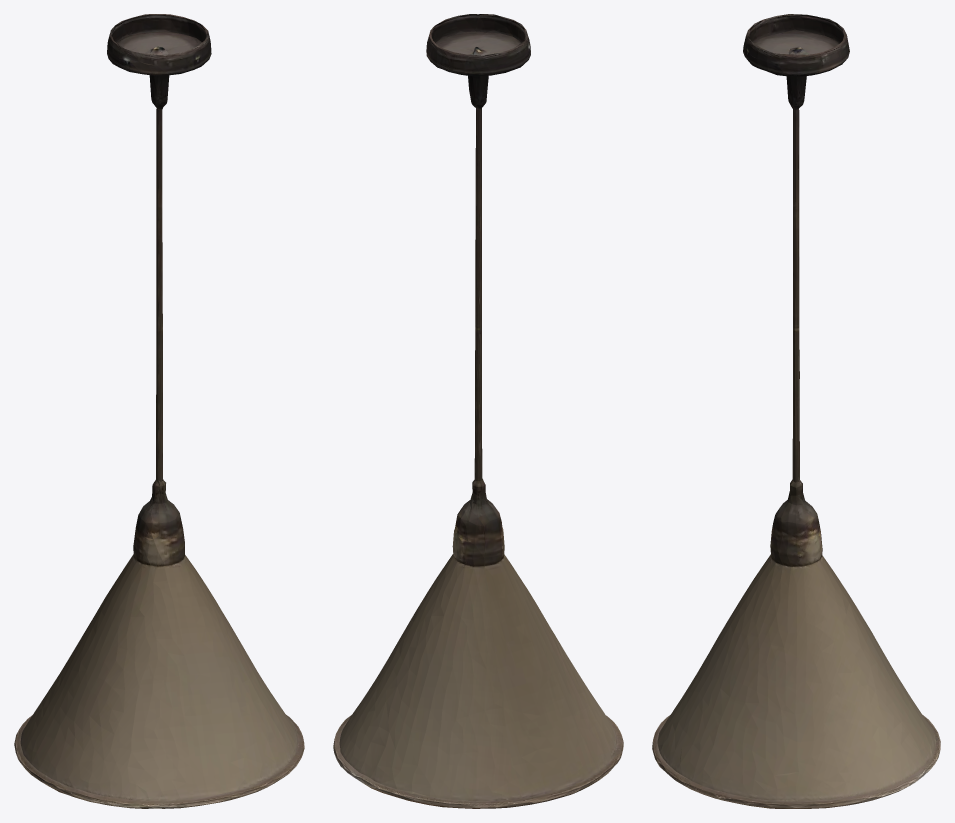
Rendered from ast_c5ab118e8f8d.glb.
The picture shows the model from 3 angles, left to right: view 1: azimuth 30°, elevation 25°; view 2: azimuth 150°, elevation 25°; view 3: azimuth 270°, elevation 25°; orthographic projection.
Visible parts, largest first — view 1: geometry_0; view 2: geometry_0; view 3: geometry_0.
Boxes of the visible parts, x1,y1,x2,y2 form: geometry_0: (14, 14, 304, 808); geometry_0: (333, 14, 623, 808); geometry_0: (652, 14, 940, 808).
Bounding box in the file's own units: 0.3637 × 0.9985 × 0.3639.
Materials: 1 (1 with a texture image).
